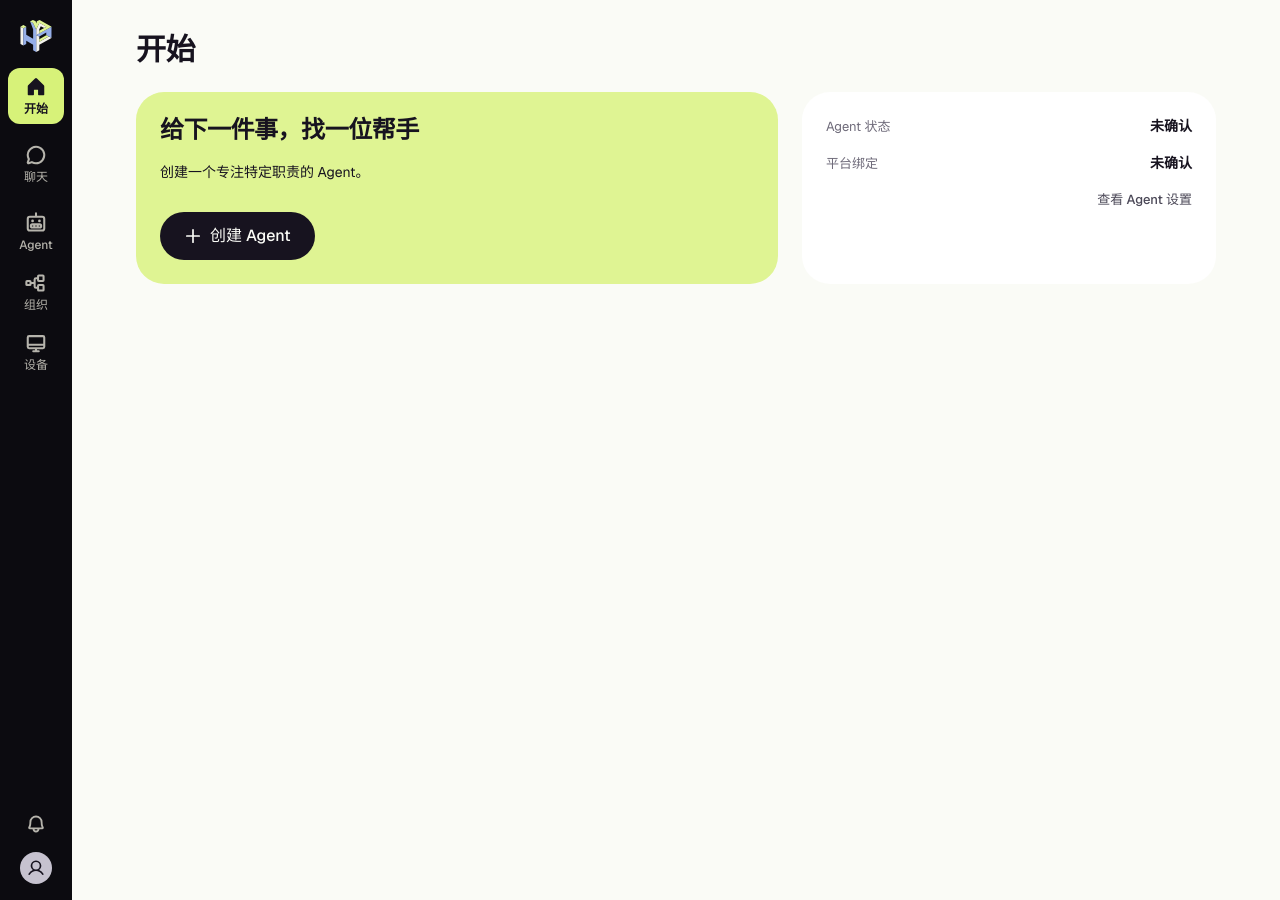
Scenario: agent.secret.provider-list › present: the create form offers the Key credential
The width and height of the screenshot is (1280, 900).
Click the button "Agent" at (36, 232), box [8,204,64,260]
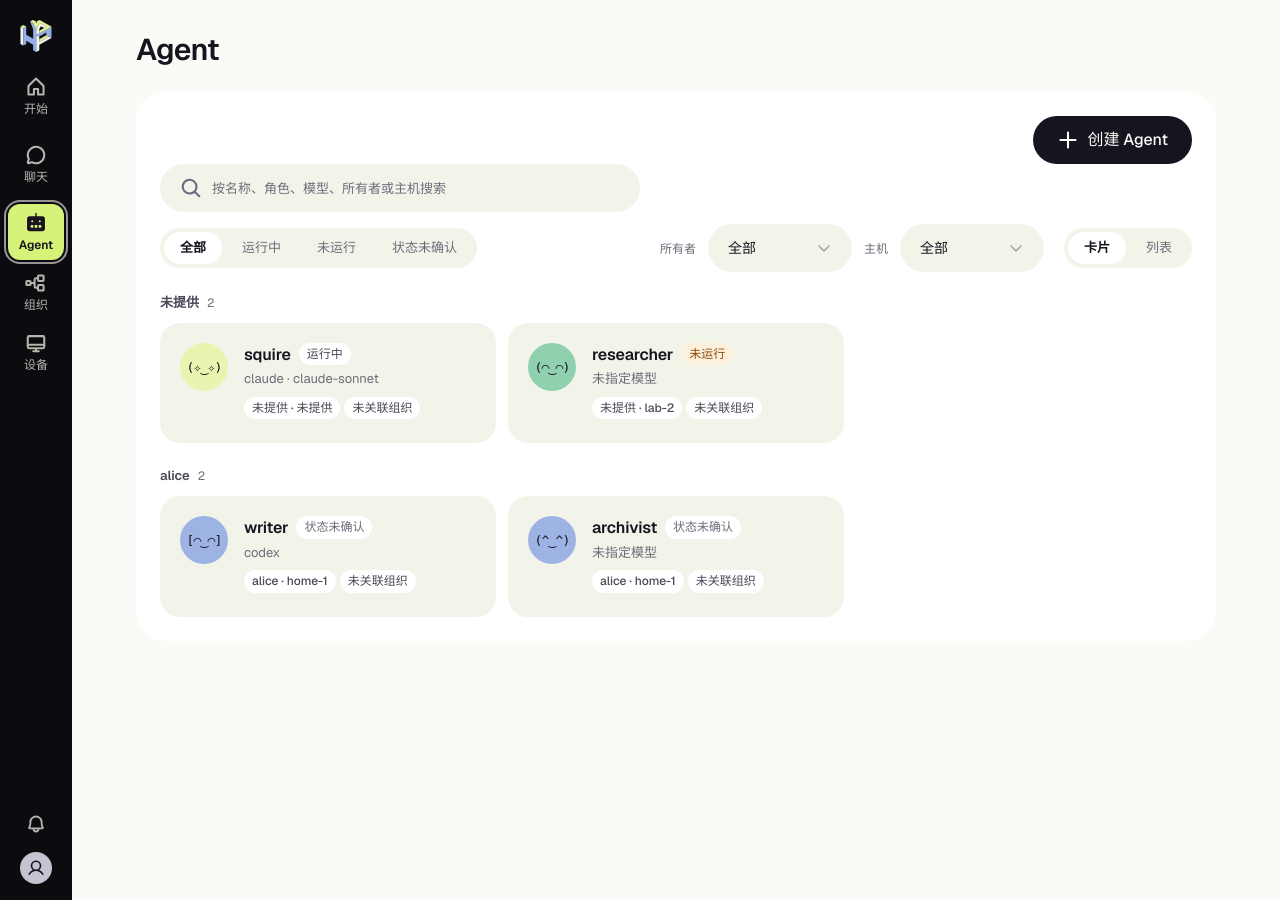
Click the button "创建 Agent" at (1113, 140), box [1033,116,1192,164]
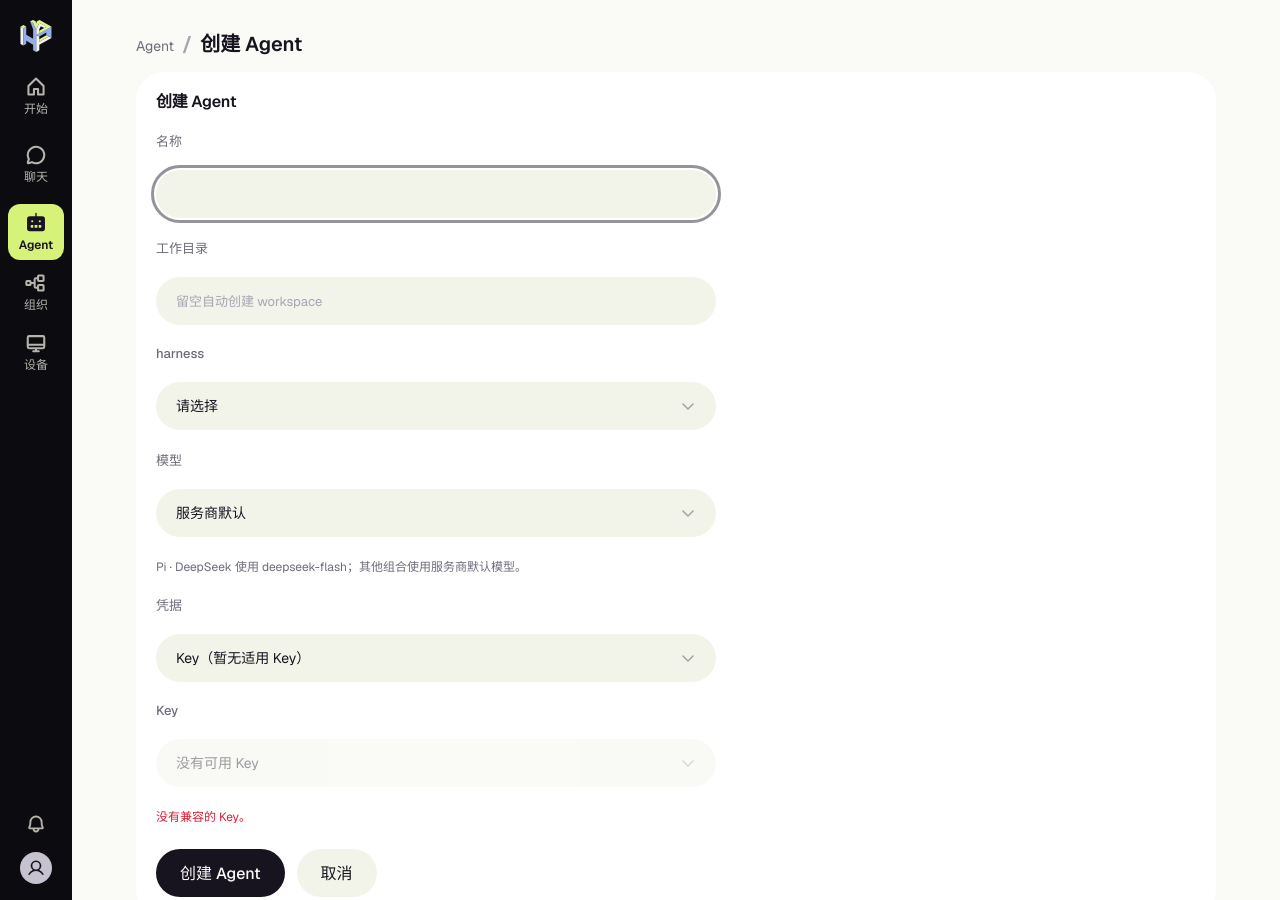
Check: the dropdown named "凭据" is shown, box [156,634,716,682]
